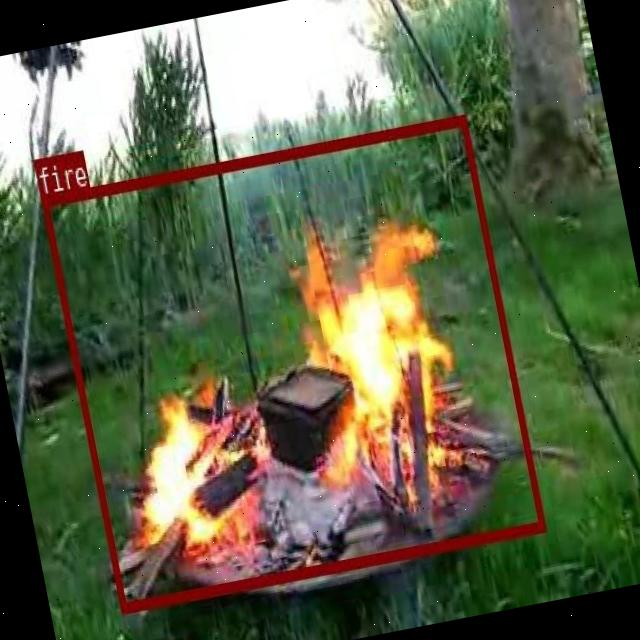fire: (40, 114, 545, 612)
